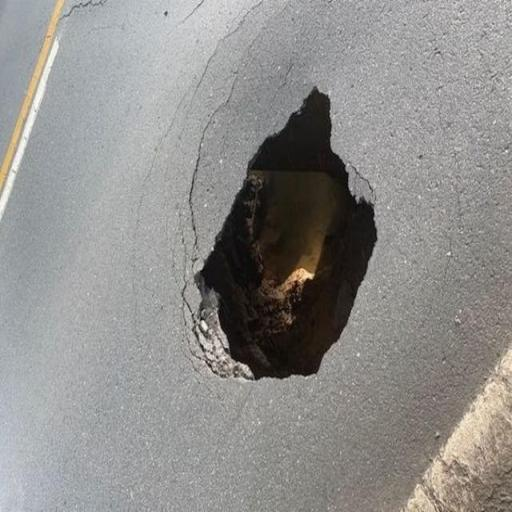Concentric_Crack: (193, 88, 376, 378)
